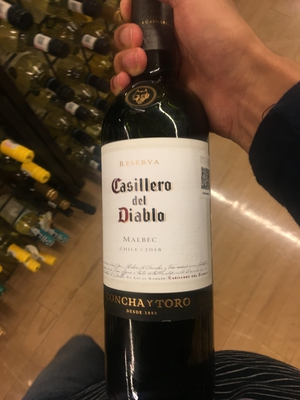casillero del diablo malbec: (83, 21, 230, 400)
